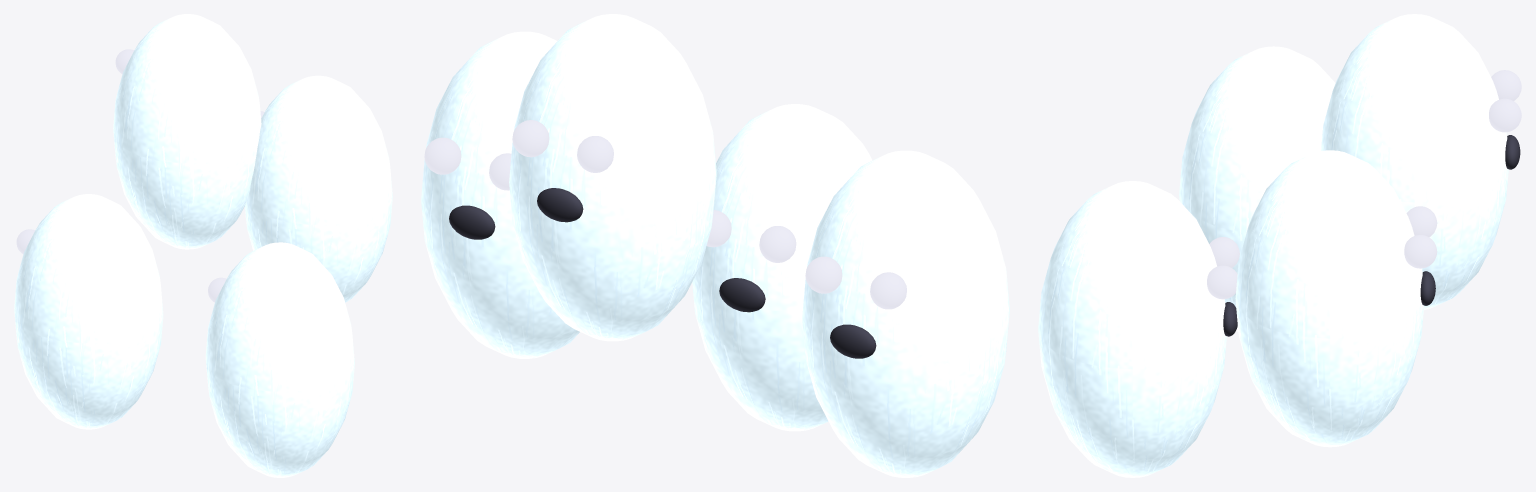
Rendered from the-hollow-choir.glb.
3 renders of one model, left to right at view 1: azimuth 30°, elevation 25°; view 2: azimuth 150°, elevation 25°; view 3: azimuth 270°, elevation 25°, orthographic. The views are drawn at different scales.
Parts seen in each view (by area): view 1: WispBody, WispBody.002, WispBody.003, WispBody.001; view 2: WispBody, WispBody.003, WispBody.002, WispBody.001, Mouth.002, Mouth, Mouth.001, Mouth.003, Eye.001, Eye.003, Eye, Eye.004 (+4 smaller); view 3: WispBody.001, WispBody.002, WispBody.003, WispBody, Eye.007, Eye.003, Eye.005, Eye.002, Eye.006, Eye.004.
Boxes of the visible parts, bbox=[...] form: WispBody: bbox=[14, 194, 163, 429]; WispBody.002: bbox=[205, 242, 354, 477]; WispBody.003: bbox=[113, 14, 261, 249]; WispBody.001: bbox=[245, 75, 392, 302]; WispBody: bbox=[802, 150, 1009, 477]; WispBody.003: bbox=[509, 14, 716, 341]; WispBody.002: bbox=[692, 104, 872, 431]; WispBody.001: bbox=[421, 31, 579, 358]; Mouth.002: bbox=[719, 278, 765, 312]; Mouth: bbox=[830, 324, 876, 358]; Mouth.001: bbox=[449, 205, 495, 239]; Mouth.003: bbox=[537, 188, 583, 222]; Eye.001: bbox=[805, 256, 842, 293]; Eye.003: bbox=[424, 137, 461, 174]; Eye: bbox=[870, 272, 906, 309]; Eye.004: bbox=[759, 226, 796, 262]; WispBody.001: bbox=[1235, 150, 1424, 447]; WispBody.002: bbox=[1038, 181, 1226, 477]; WispBody.003: bbox=[1321, 14, 1508, 309]; WispBody: bbox=[1179, 46, 1335, 331]; Eye.007: bbox=[1489, 98, 1521, 132]; Eye.003: bbox=[1404, 235, 1437, 268]; Eye.005: bbox=[1207, 265, 1237, 299]; Eye.002: bbox=[1406, 206, 1437, 237]; Eye.006: bbox=[1491, 70, 1521, 100]; Eye.004: bbox=[1209, 237, 1239, 267].
Bounding box in the file's own units: 1.08 × 1 × 0.9429.
3 materials, 1 textured.
